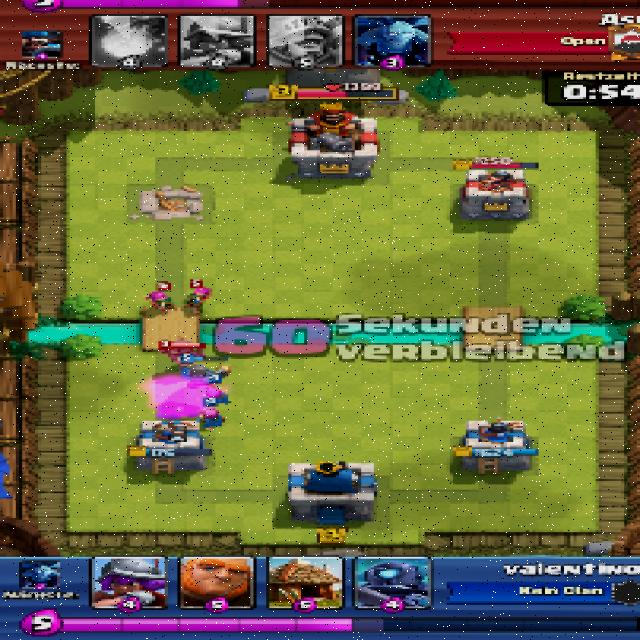Enemy-MiniPEKKA: (153, 342, 204, 362)
Player-Archer: (182, 287, 210, 311), (195, 407, 227, 428), (147, 291, 176, 310), (202, 387, 229, 406)
Player-Knight: (181, 363, 230, 388)
